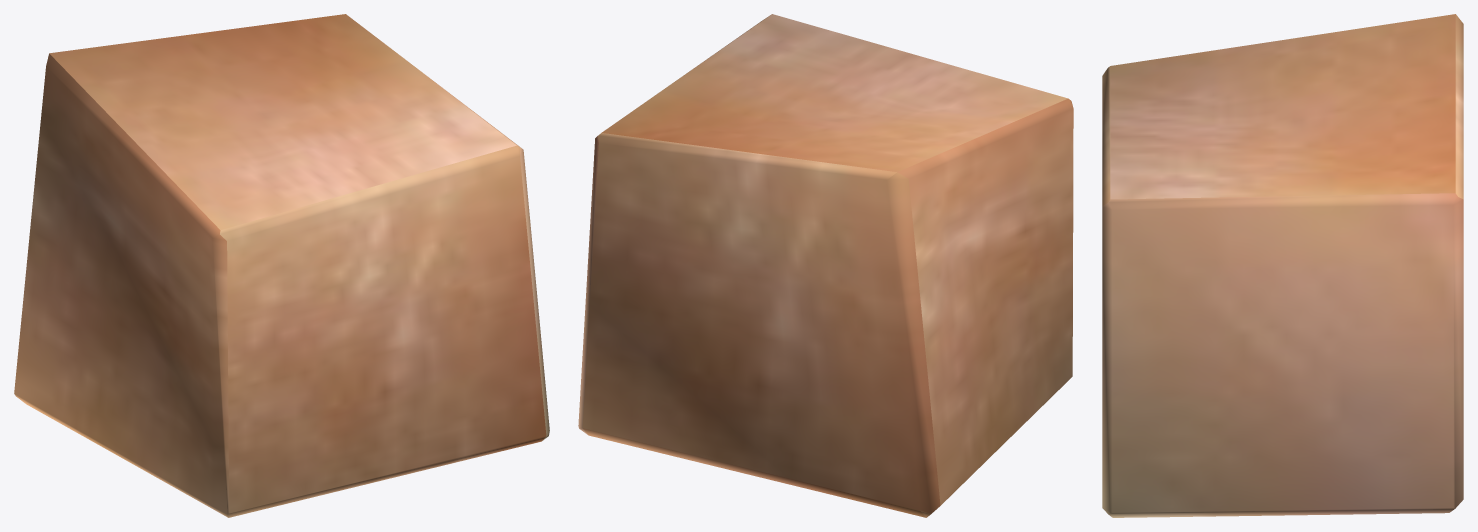
Rendered from chickenCube.fbx.
3 views of the same model, side by side, from view 1: azimuth 30°, elevation 25°; view 2: azimuth 150°, elevation 25°; view 3: azimuth 270°, elevation 25° (orthographic).
Visible parts, largest first — view 1: chicken cube; view 2: chicken cube; view 3: chicken cube.
Part boxes in pixels (x1,y1,x2,y2): chicken cube: [14, 14, 549, 517]; chicken cube: [578, 14, 1073, 517]; chicken cube: [1102, 14, 1463, 517].
Bounding box in the file's own units: 238 × 211 × 200.
Materials: 1 (1 with a texture image).
